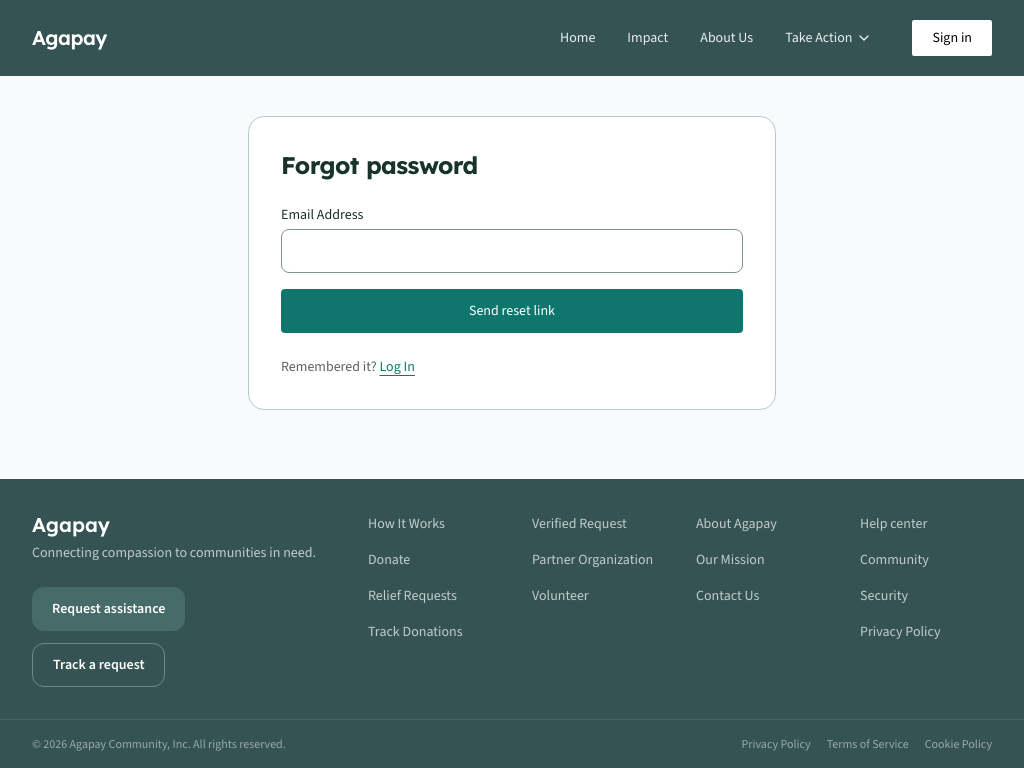
Scenario: ForgotPasswordPage › answers identically without leaking account existence
In the field labelled "Email Address": (512, 251) x1=281 y1=229 x2=743 y2=273, type "nobody@example.com"
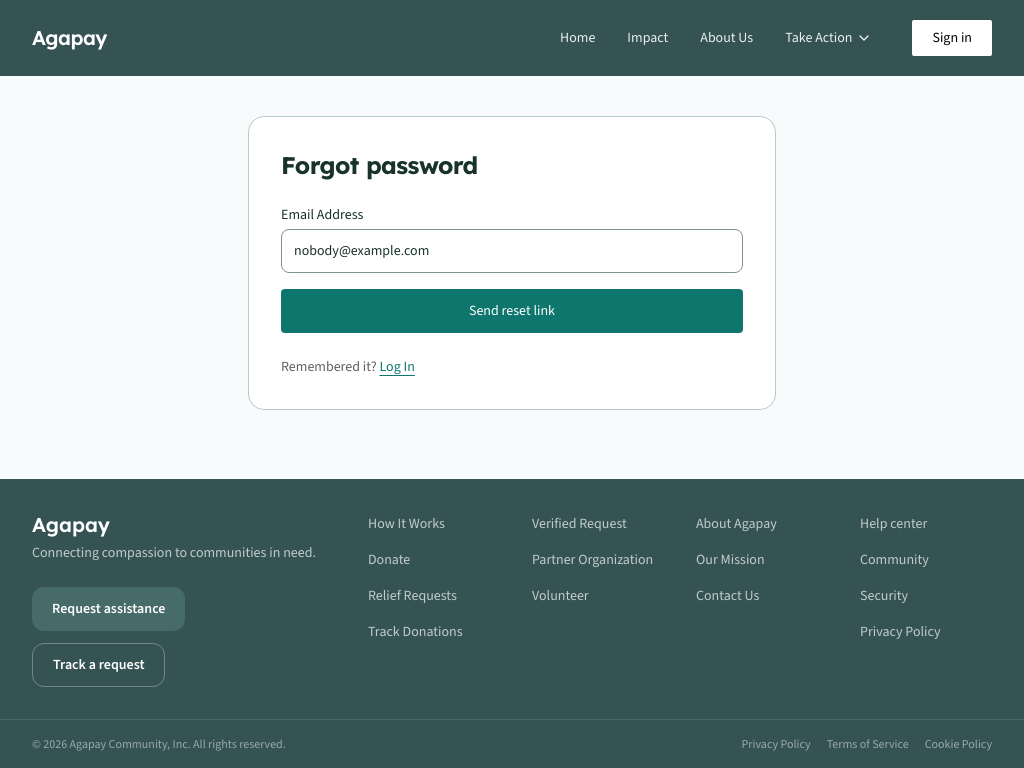
Click the button "Send reset link": (512, 311) x1=281 y1=289 x2=743 y2=333
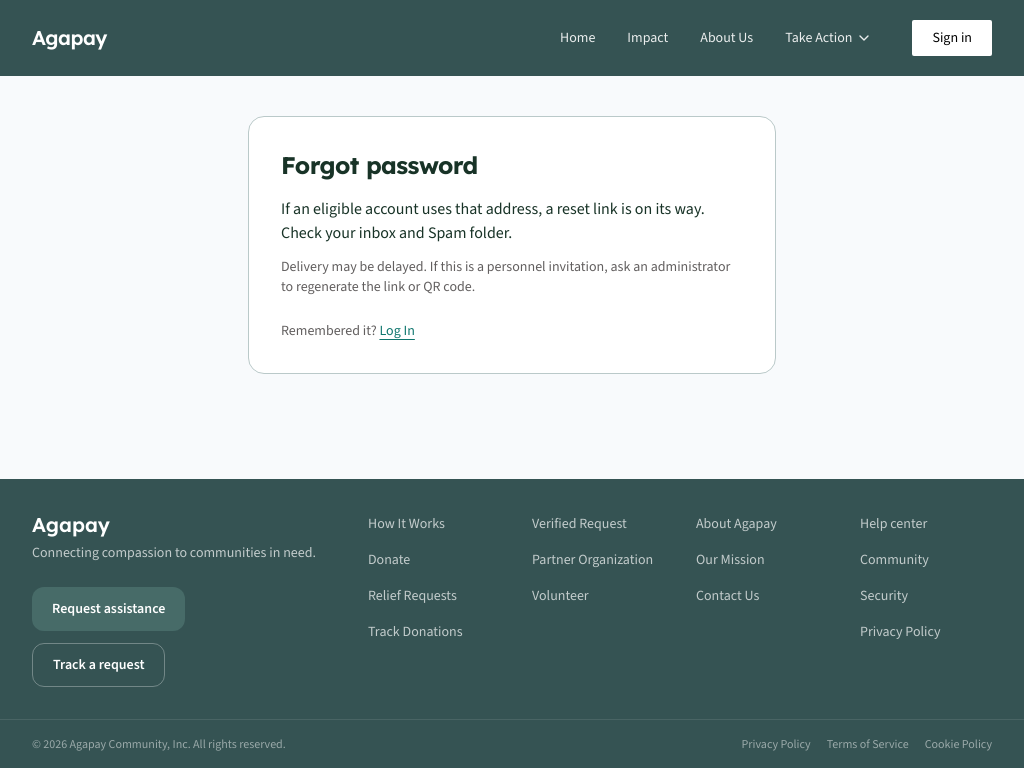
Check: the text "a reset link is on its way" is shown, box x1=281 y1=198 x2=705 y2=243
